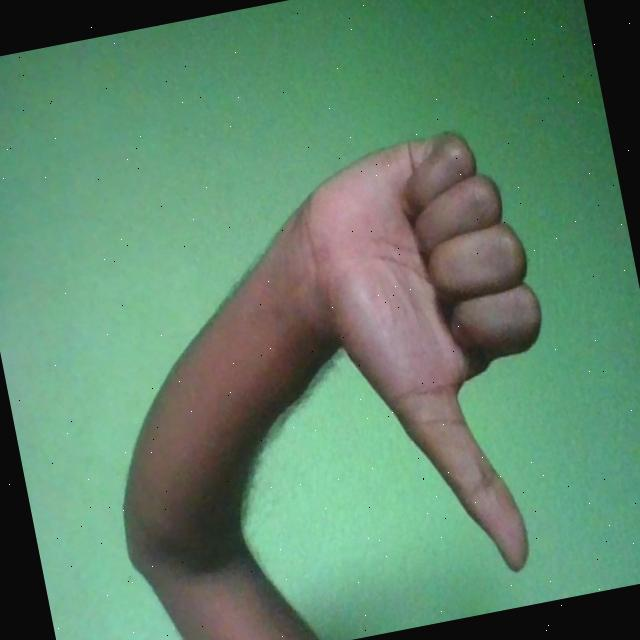Dislike: (284, 118, 586, 602)
